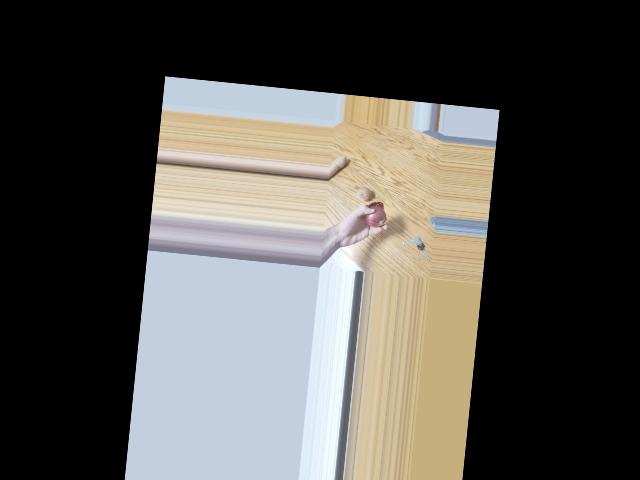onion: (353, 187, 371, 205)
